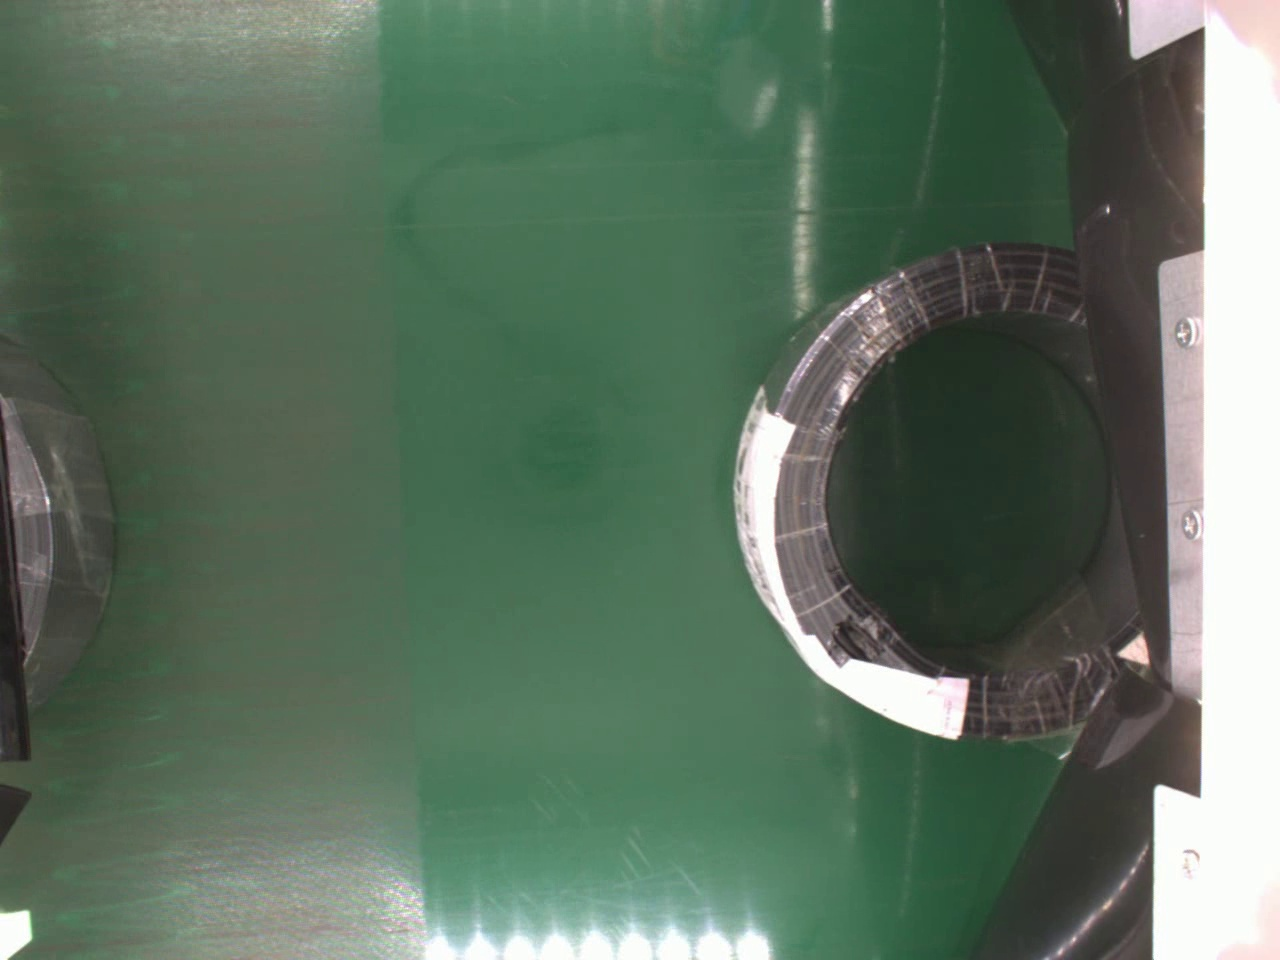black: (731, 242, 1141, 742), (0, 333, 119, 709)
